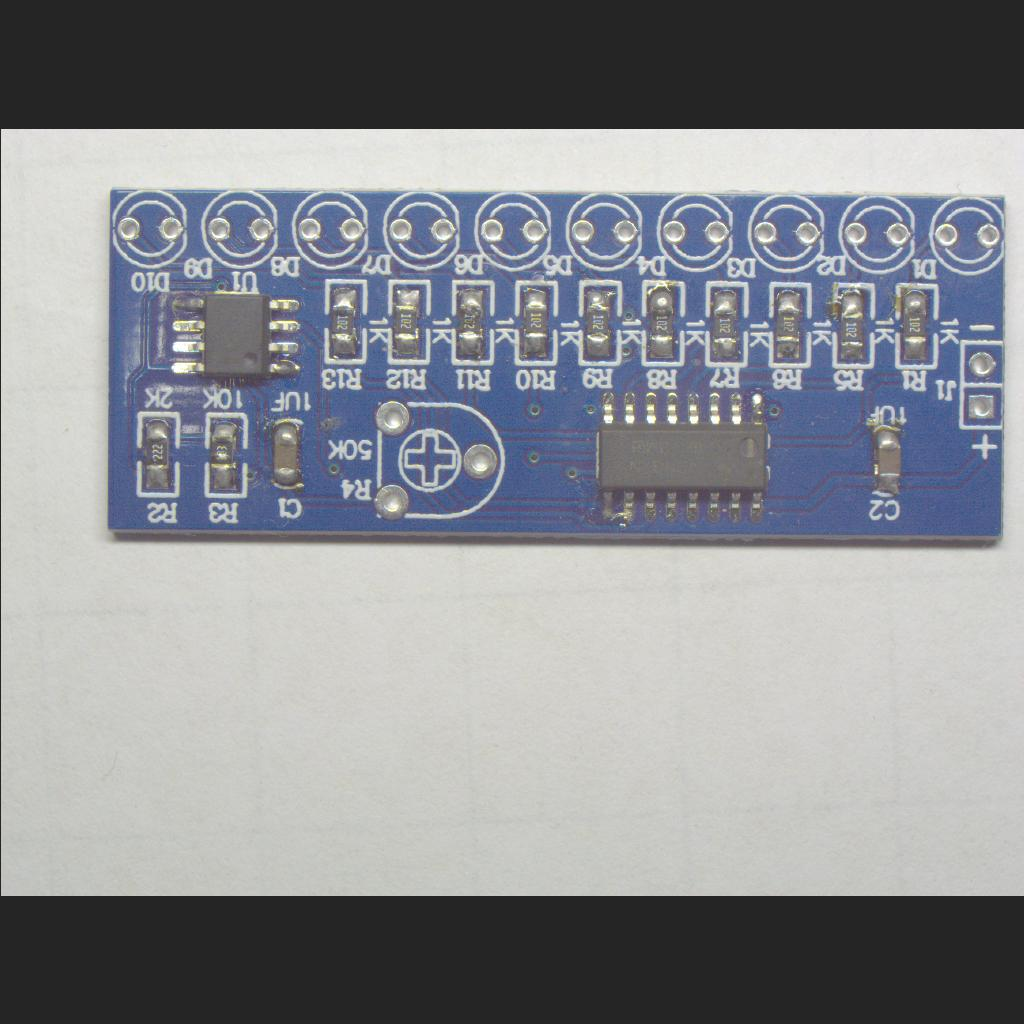OK: (586, 382, 774, 532), (160, 282, 308, 390), (637, 276, 687, 370), (892, 278, 940, 374), (132, 408, 182, 500), (446, 276, 496, 368), (701, 277, 749, 371), (575, 276, 623, 370), (384, 274, 432, 368), (765, 280, 813, 372), (511, 276, 559, 368), (201, 409, 249, 501), (830, 278, 876, 372), (323, 274, 369, 366), (864, 410, 906, 502), (266, 412, 306, 494)
